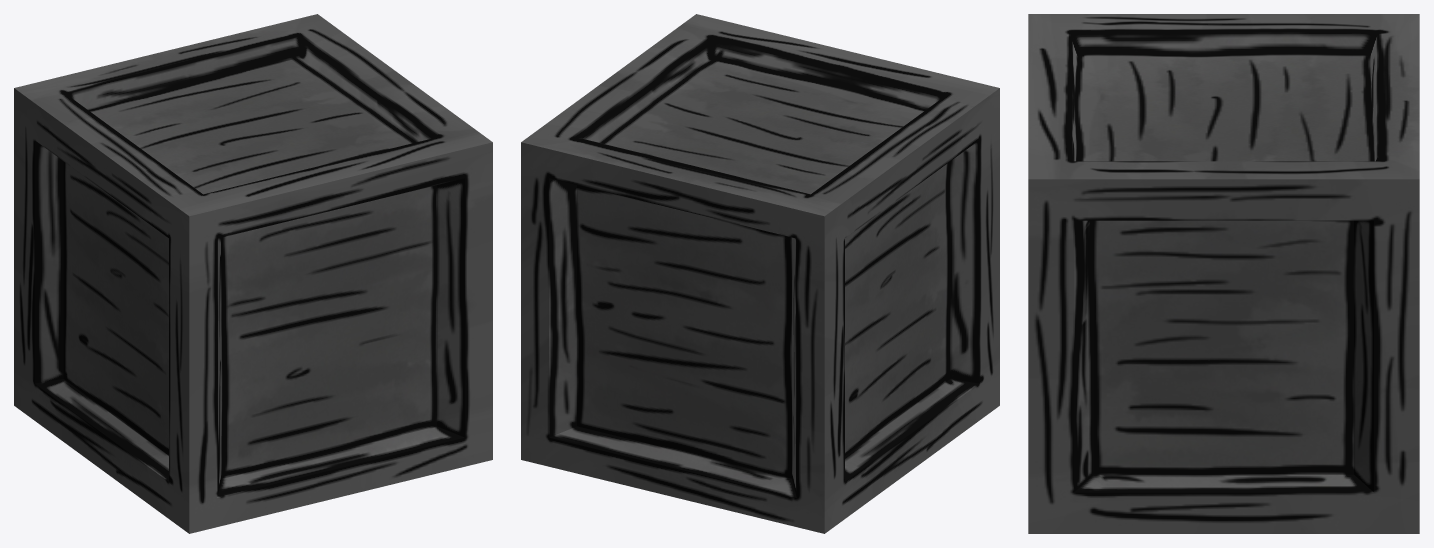
The model's file is Box_Creat_Thing.fbx.
3 views of the same model, side by side, from view 1: azimuth 30°, elevation 25°; view 2: azimuth 150°, elevation 25°; view 3: azimuth 270°, elevation 25° (orthographic). The views are drawn at different scales.
Visible parts, largest first — view 1: pCube17; view 2: pCube17; view 3: pCube17.
Part boxes in pixels (x1,y1,x2,y2): pCube17: [14, 14, 492, 533]; pCube17: [521, 14, 999, 533]; pCube17: [1028, 14, 1419, 533].
Bounding box in the file's own units: 1.45 × 1.45 × 1.45.
Materials: 1 (1 with a texture image).
